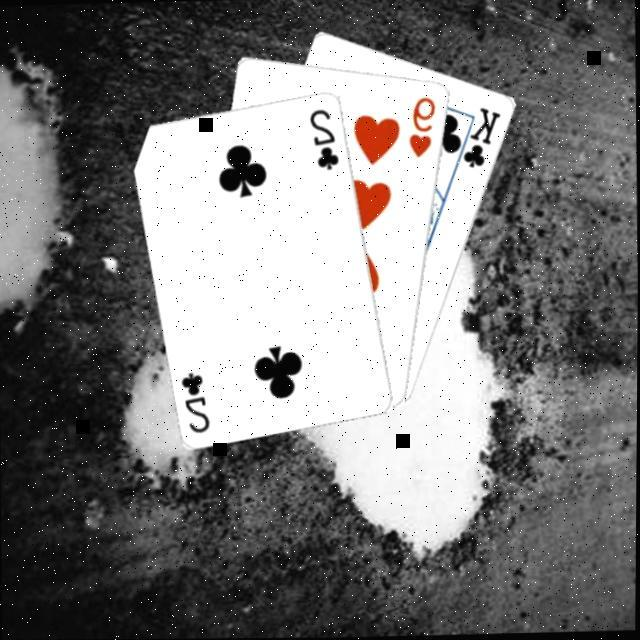2C: (307, 107, 343, 175), (179, 370, 215, 438)
9H: (406, 94, 440, 162)
KC: (450, 105, 506, 173)
